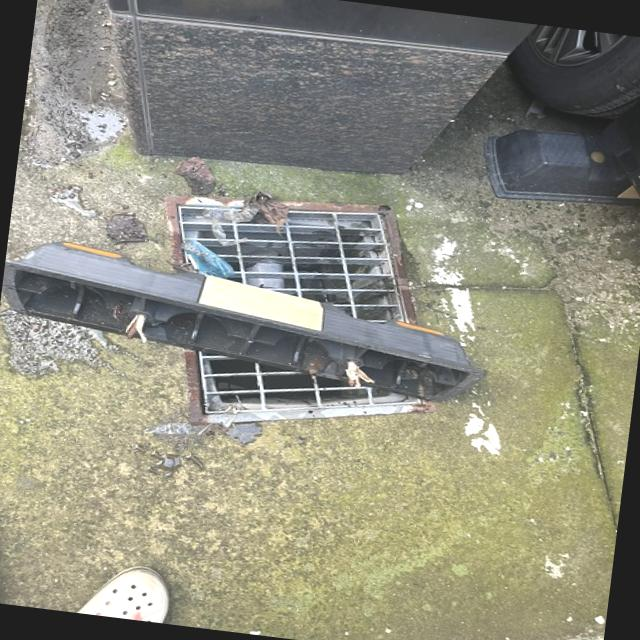drain_area: (176, 207, 406, 323), (198, 351, 422, 413)
drain_full: (178, 208, 423, 413)
